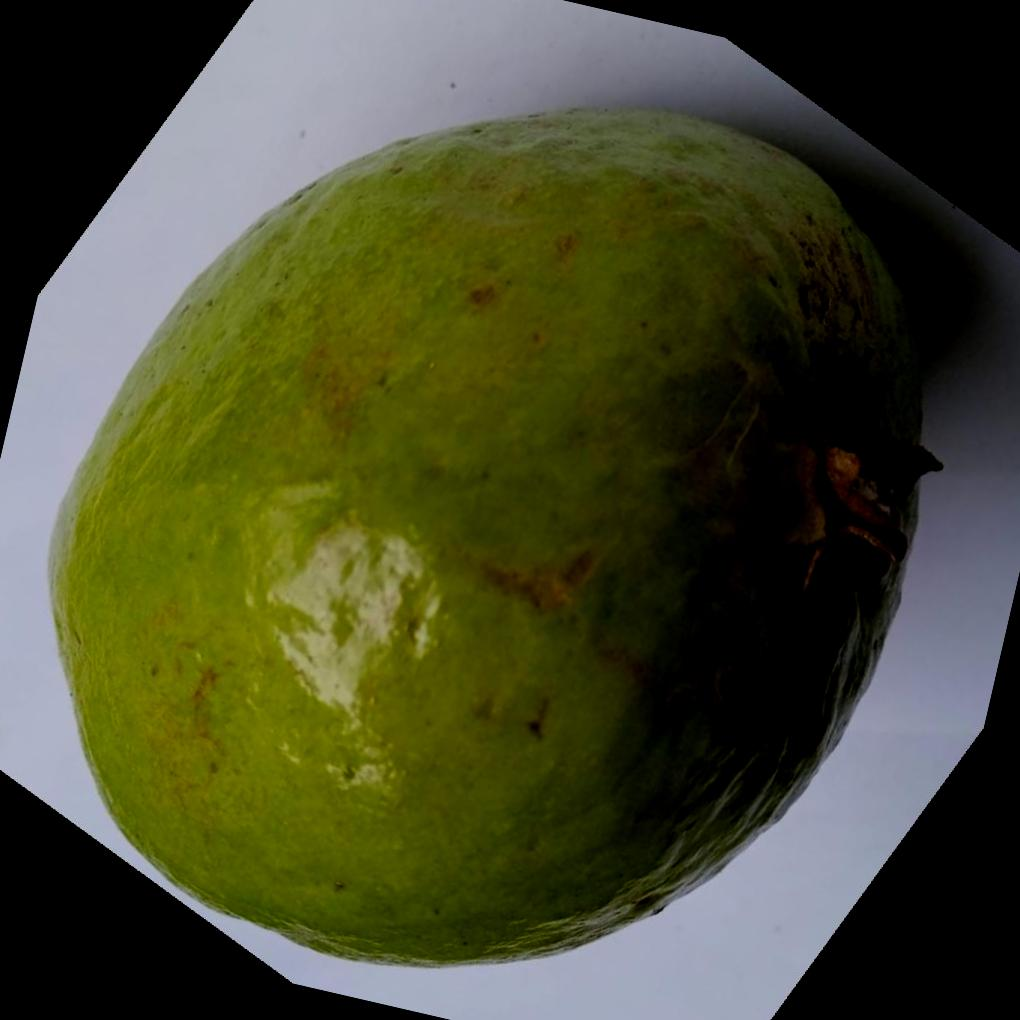FreshGuava: (45, 100, 945, 965)
